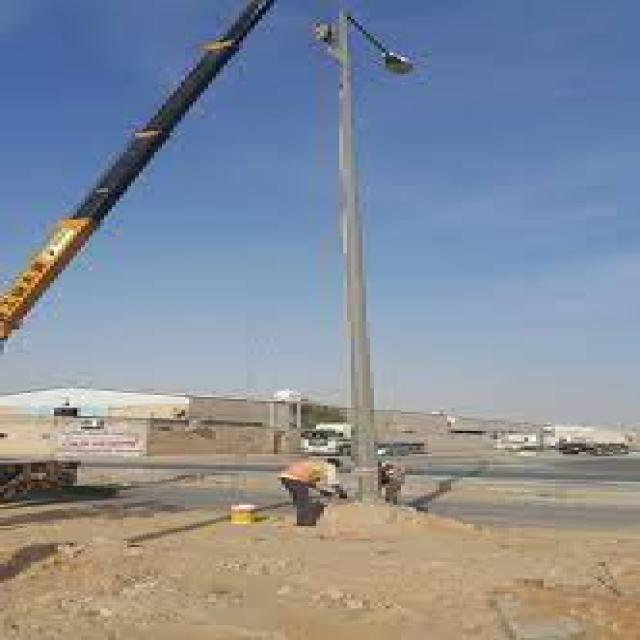Street Light: (328, 8, 416, 503)
